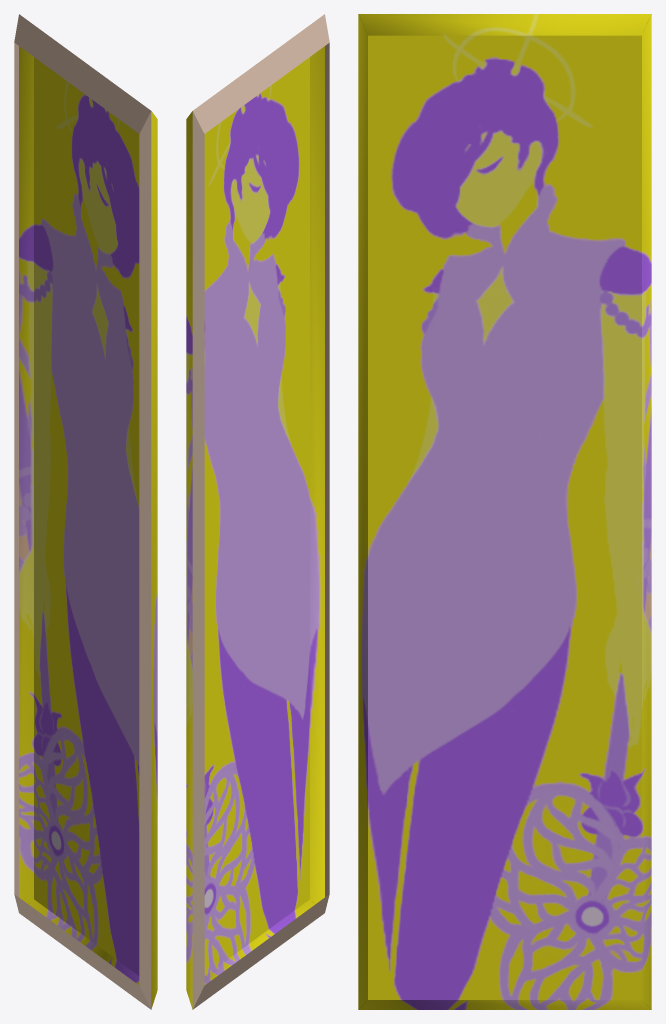
File: neok_wall_sign_4x15_01_LOD0.fbx
3 renders of one model, left to right at view 1: azimuth 30°, elevation 25°; view 2: azimuth 150°, elevation 25°; view 3: azimuth 270°, elevation 25°, orthographic. The views are drawn at different scales.
Visible parts, largest first — view 1: billboard01; view 2: billboard01; view 3: billboard01.
Part boxes in pixels (box(x1,y1,x2,y2)): billboard01: box(14, 14, 157, 1009); billboard01: box(186, 14, 329, 1009); billboard01: box(358, 14, 651, 1009).
Bounding box in the file's own units: 1 × 45 × 12.
